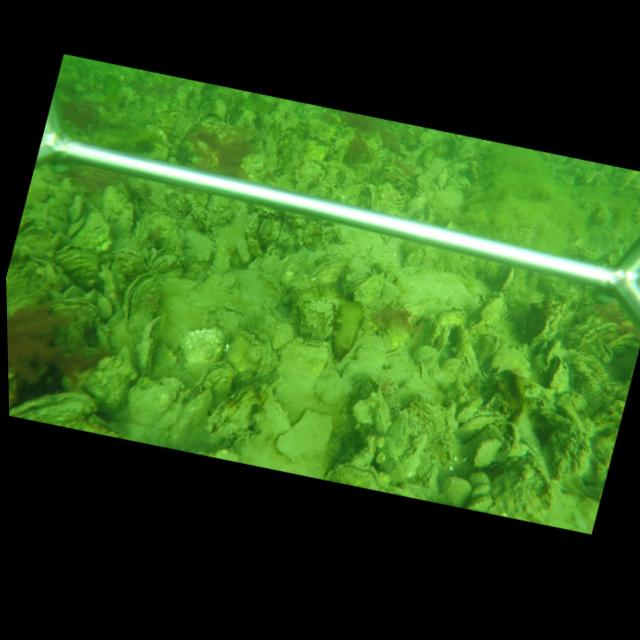Oyster-Closed: (272, 338, 332, 418), (123, 269, 179, 339), (125, 375, 183, 433), (275, 409, 333, 463), (163, 387, 211, 446), (205, 387, 258, 439), (9, 391, 98, 420), (225, 330, 275, 381), (293, 286, 340, 338), (332, 300, 363, 373), (68, 204, 113, 252), (526, 300, 568, 351), (354, 273, 388, 329), (102, 185, 136, 236), (48, 296, 97, 329), (137, 315, 162, 375), (457, 410, 503, 440), (326, 462, 379, 488), (209, 302, 251, 331), (472, 293, 507, 326), (435, 307, 467, 343), (310, 253, 345, 285), (387, 412, 411, 458), (471, 437, 500, 470), (545, 354, 571, 390), (441, 476, 472, 505), (477, 332, 502, 359), (422, 464, 439, 493), (497, 265, 516, 288), (103, 309, 122, 330)
Oyster-Open: (596, 336, 613, 364)
